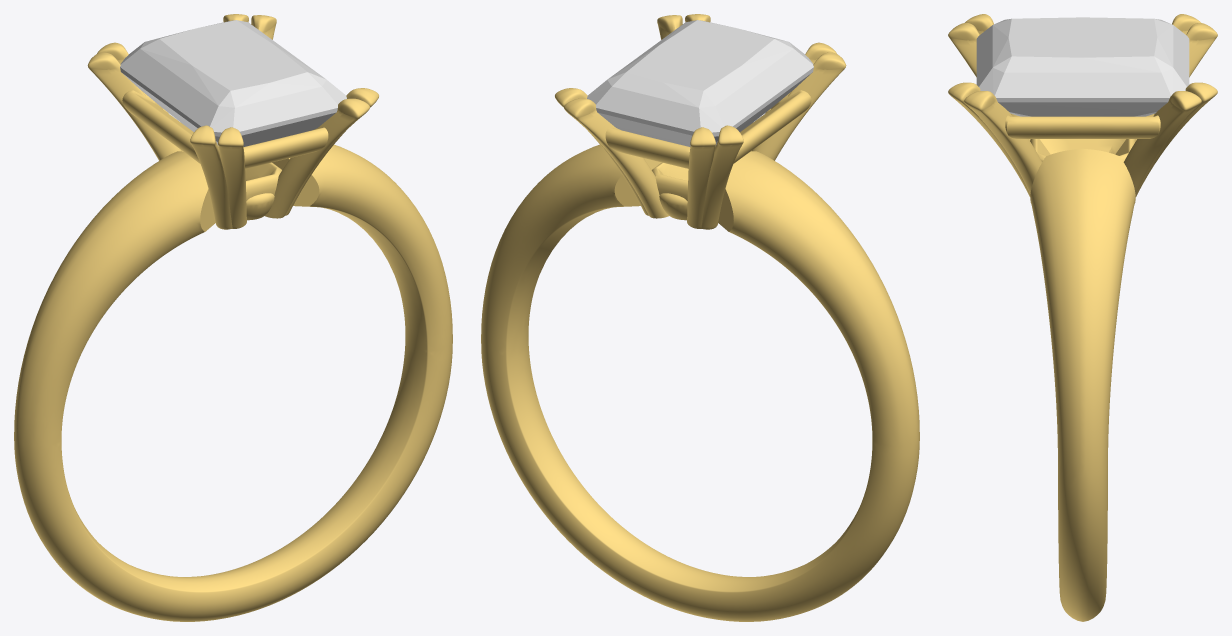
The model's file is CamRadianteng_blender.glb.
3 renders of one model, left to right at view 1: azimuth 30°, elevation 25°; view 2: azimuth 150°, elevation 25°; view 3: azimuth 270°, elevation 25°, orthographic.
Parts seen in each view (by area): view 1: v2 Cam YG for 3d model, Cam radiant dia for 3d model; view 2: v2 Cam YG for 3d model, Cam radiant dia for 3d model; view 3: v2 Cam YG for 3d model, Cam radiant dia for 3d model.
Boxes of the visible parts, x1=… form: v2 Cam YG for 3d model: x1=14, y1=14, x2=452, y2=621; Cam radiant dia for 3d model: x1=120, y1=20, x2=346, y2=146; v2 Cam YG for 3d model: x1=481, y1=14, x2=919, y2=621; Cam radiant dia for 3d model: x1=587, y1=20, x2=813, y2=146; v2 Cam YG for 3d model: x1=948, y1=14, x2=1217, y2=621; Cam radiant dia for 3d model: x1=976, y1=17, x2=1189, y2=116.
Size of the model in its own units: 20.1 by 24.77 by 10.8.
